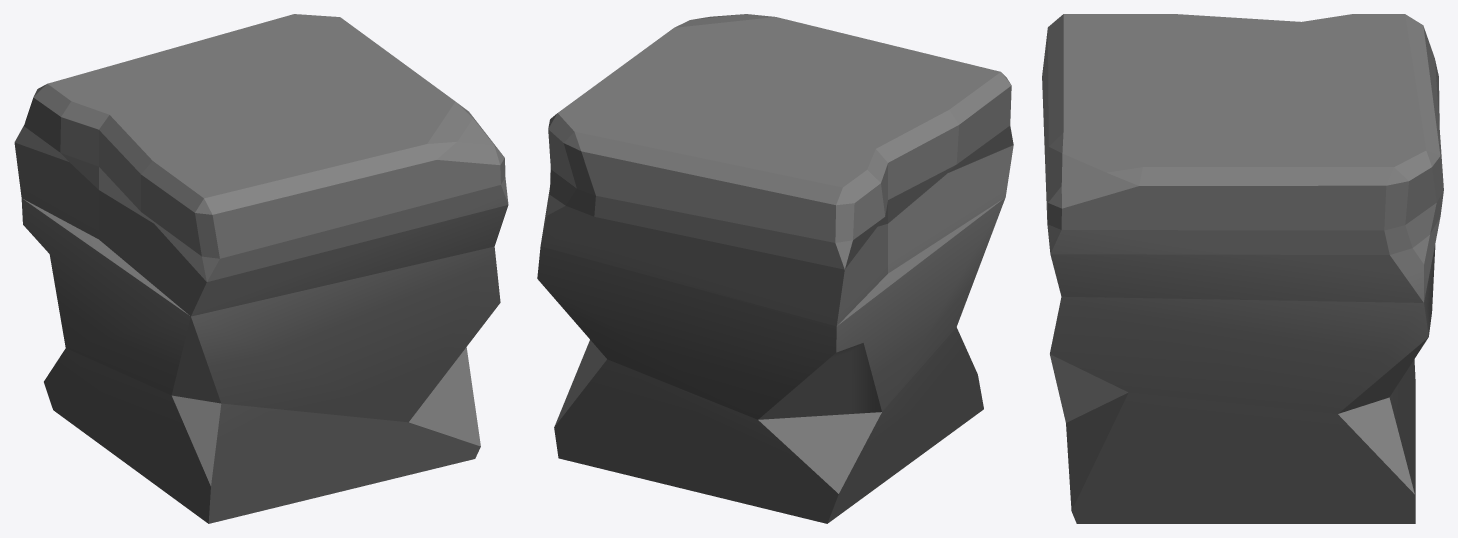
Rendered from rock-floor.fbx.
3 renders of one model, left to right at view 1: azimuth 30°, elevation 25°; view 2: azimuth 150°, elevation 25°; view 3: azimuth 270°, elevation 25°, orthographic. The views are drawn at different scales.
Visible parts, largest first — view 1: rockfloor_LOD0; view 2: rockfloor_LOD0; view 3: rockfloor_LOD0.
Part boxes in pixels (left/top/right/bottom): rockfloor_LOD0: left=14, top=14, right=508, bottom=523; rockfloor_LOD0: left=537, top=14, right=1013, bottom=523; rockfloor_LOD0: left=1042, top=14, right=1443, bottom=523.
Size of what is drawn, in the model's own units: 2 by 2 by 2.01.
